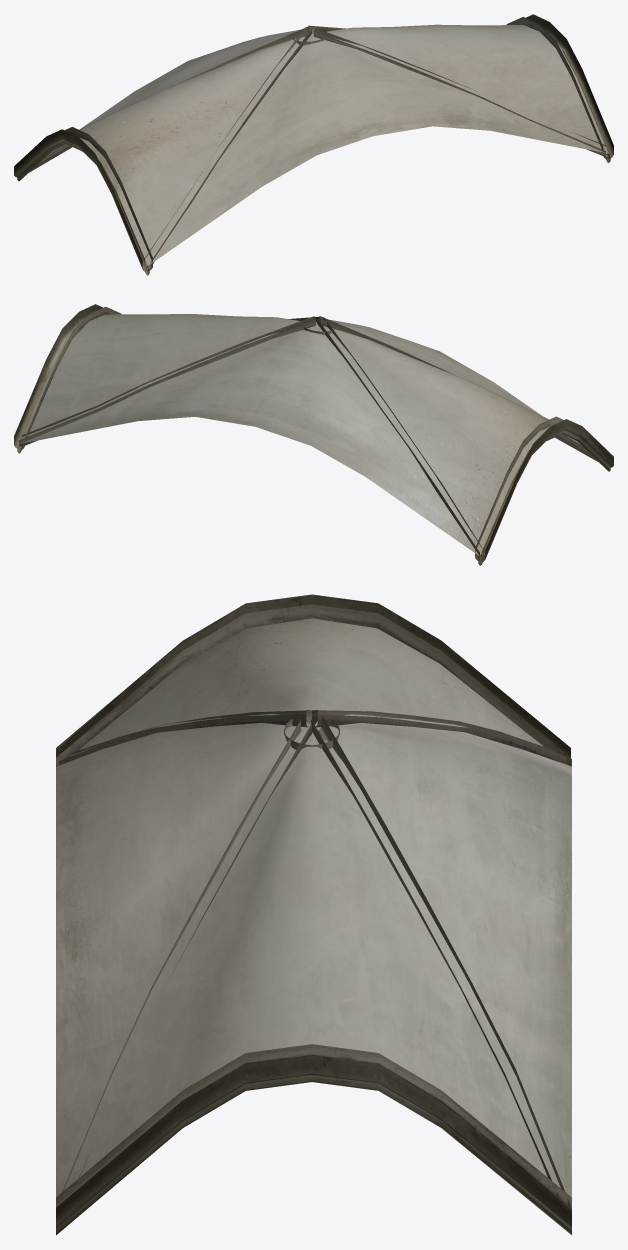
File: sm_Ceiling_01_02.fbx
3 views of the same model, one above another, from view 1: azimuth 30°, elevation 25°; view 2: azimuth 150°, elevation 25°; view 3: azimuth 270°, elevation 25° (orthographic). The views are drawn at different scales.
Visible parts, largest first — view 1: sm_Ceiling_01_02_LOD0; view 2: sm_Ceiling_01_02_LOD0; view 3: sm_Ceiling_01_02_LOD0.
Boxes of the visible parts, left/top/right/bottom form: sm_Ceiling_01_02_LOD0: left=14, top=14, right=613, bottom=275; sm_Ceiling_01_02_LOD0: left=14, top=304, right=613, bottom=565; sm_Ceiling_01_02_LOD0: left=56, top=594, right=571, bottom=1235.
Size of the model in its own units: 675 by 320 by 200.
